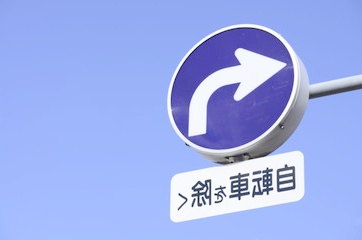Direction_sign: (167, 20, 300, 158)
